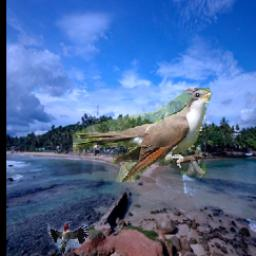Cuckoo: (74, 89, 212, 183)
Woodpecker: (48, 222, 90, 255)
